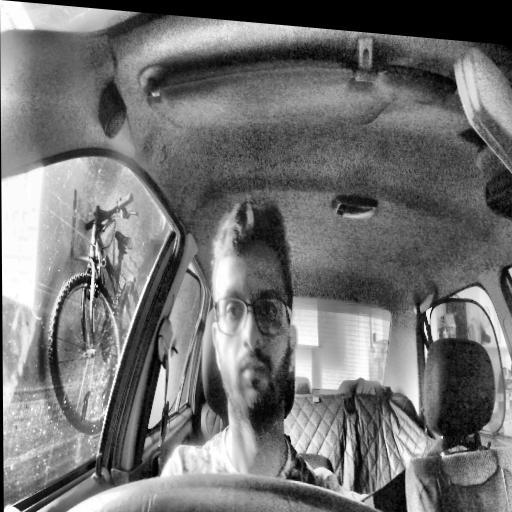awake: (209, 195, 298, 427)
